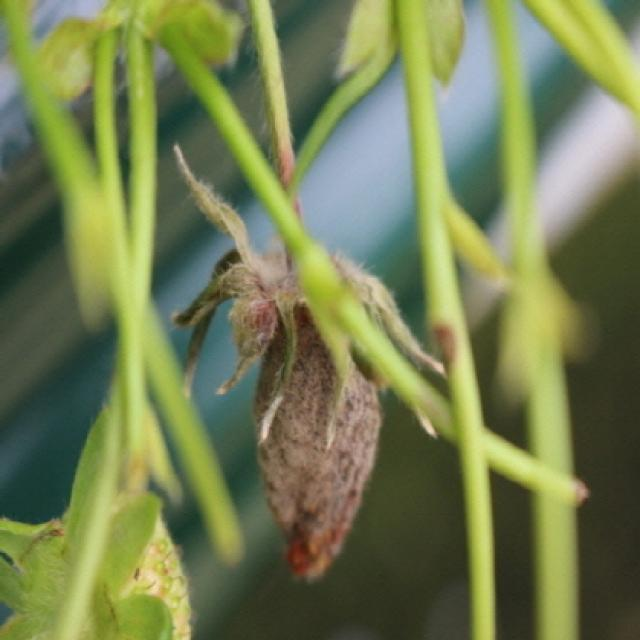Gray Mold: (171, 146, 448, 585)
